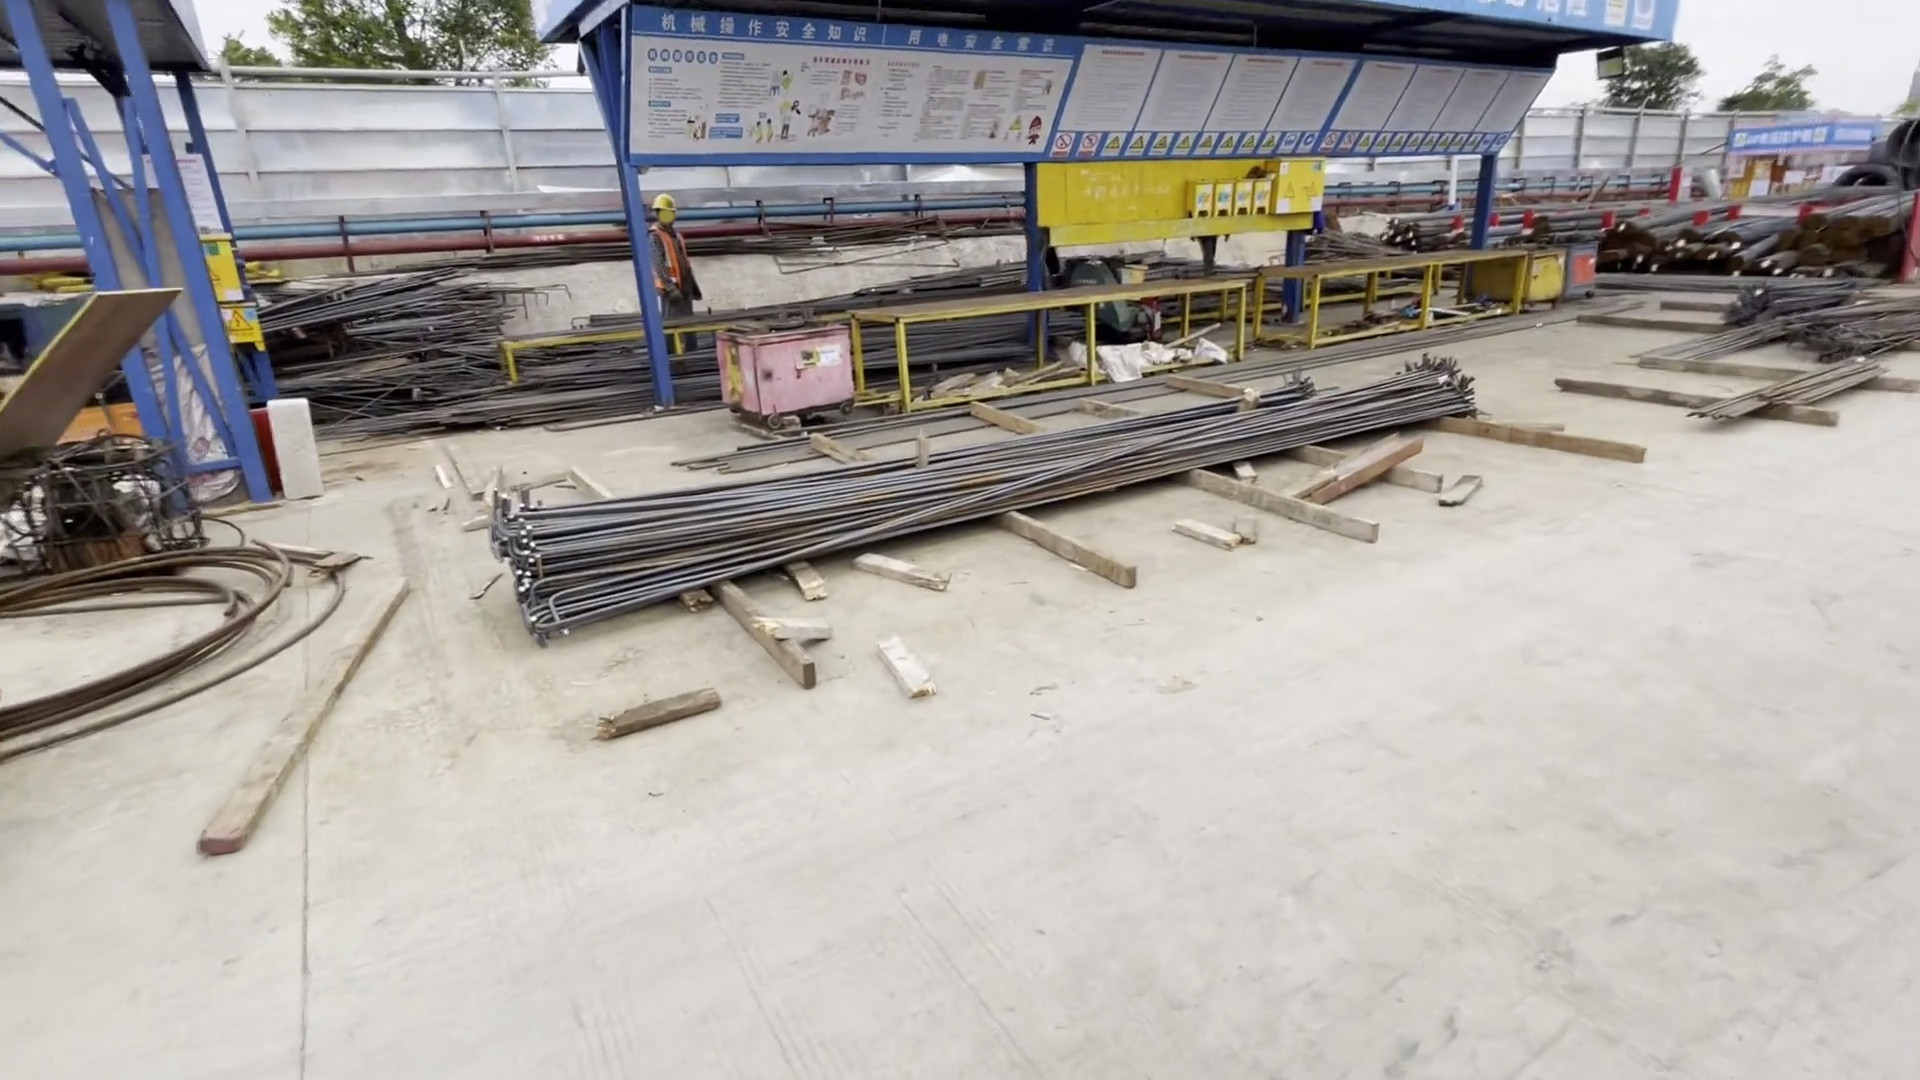ebox: (1157, 152, 1341, 222)
helmet: (649, 193, 674, 208)
person: (644, 189, 701, 349)
rebar: (500, 345, 1488, 637), (268, 273, 665, 421), (1405, 184, 1920, 287), (1627, 278, 1920, 447)
slogan: (610, 1, 1691, 166)
vest: (641, 226, 678, 288)
